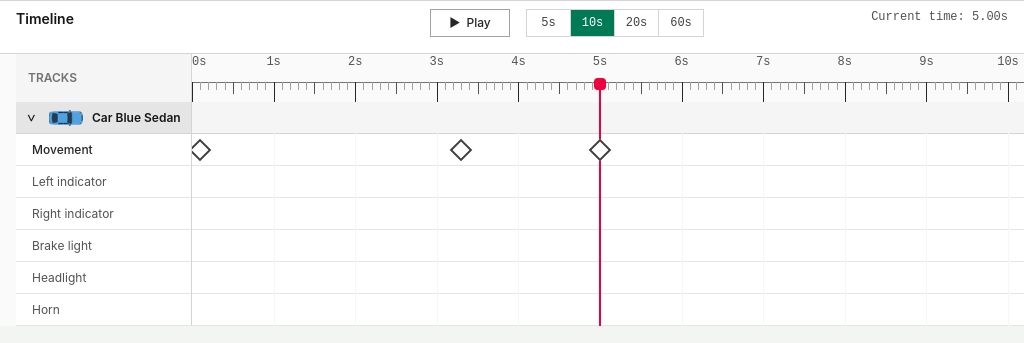
Scenario: F3.8 Movement Point time editing › drags a non-initial Timeline marker with snapped preview and commit
This screenshot has width=1024, height=343.
Step 1. Press the mouse on the button named "Select movement point at 3.30 seconds" → (461, 150), box [453,142,469,158]
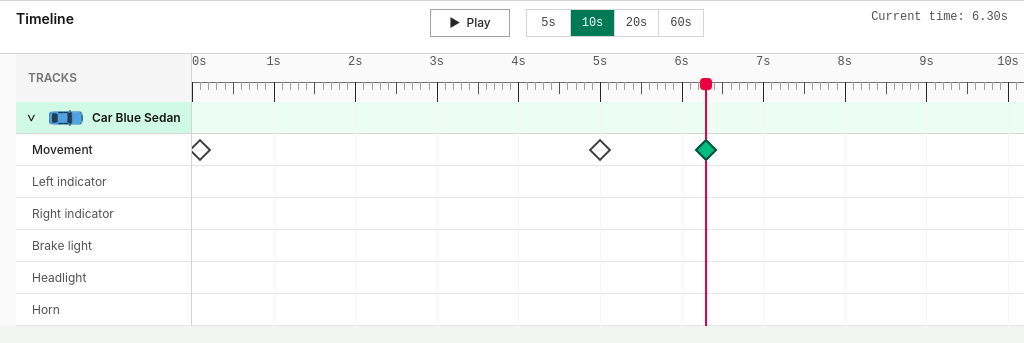
Result: the text "Current time: 6.30s" is shown at [871,10,1008,24]
